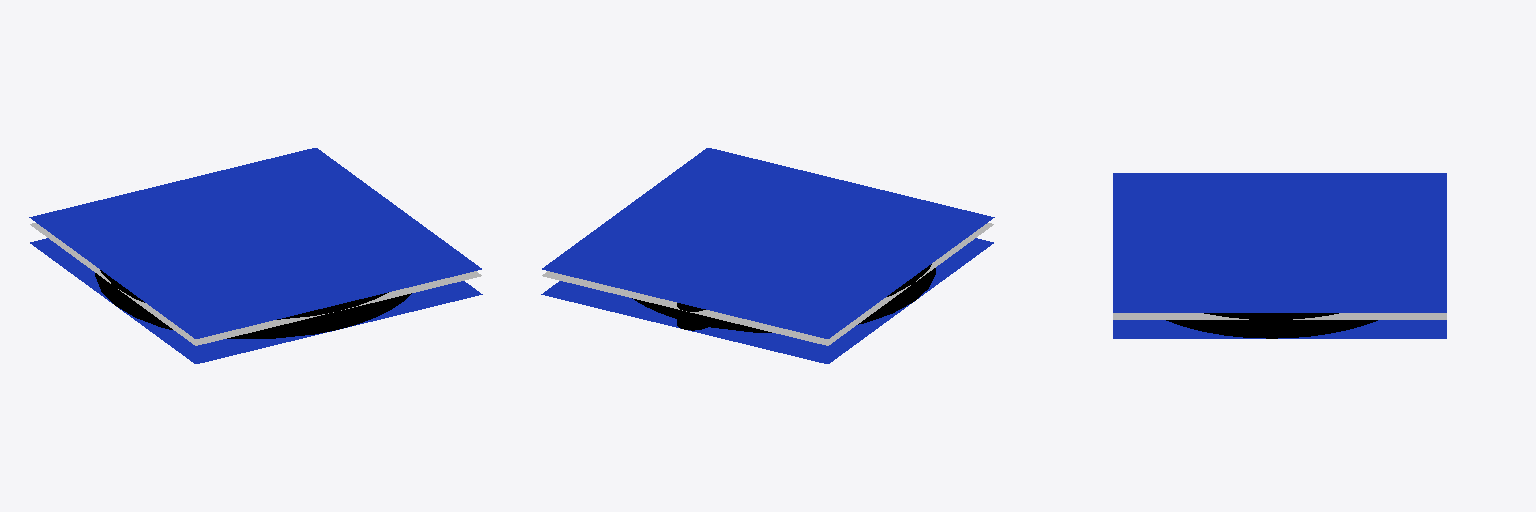
The picture shows the model from 3 angles: view 1: azimuth 30°, elevation 25°; view 2: azimuth 150°, elevation 25°; view 3: azimuth 270°, elevation 25°; orthographic projection.
Parts seen in each view (by area): view 1: key1_up, key1_down, key1_curve, key1_mid; view 2: key1_up, key1_down, key1_mid, key1_curve; view 3: key1_up, key1_down, key1_curve, key1_mid.
Boxes of the visible parts, x1=… form: key1_up: x1=29, y1=148, x2=481, y2=338; key1_down: x1=30, y1=238, x2=482, y2=363; key1_curve: x1=95, y1=270, x2=411, y2=338; key1_mid: x1=30, y1=223, x2=481, y2=345; key1_up: x1=542, y1=148, x2=994, y2=338; key1_down: x1=541, y1=238, x2=993, y2=363; key1_mid: x1=542, y1=223, x2=993, y2=345; key1_curve: x1=632, y1=264, x2=935, y2=332; key1_up: x1=1113, y1=173, x2=1446, y2=312; key1_down: x1=1113, y1=320, x2=1446, y2=338; key1_curve: x1=1166, y1=313, x2=1377, y2=338; key1_mid: x1=1113, y1=313, x2=1446, y2=319.
Bounding box in the file's own units: 4.49 × 0.3762 × 4.51.